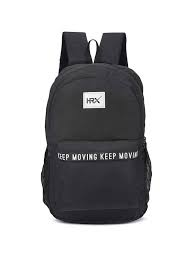backpack: (40, 30, 152, 224)
